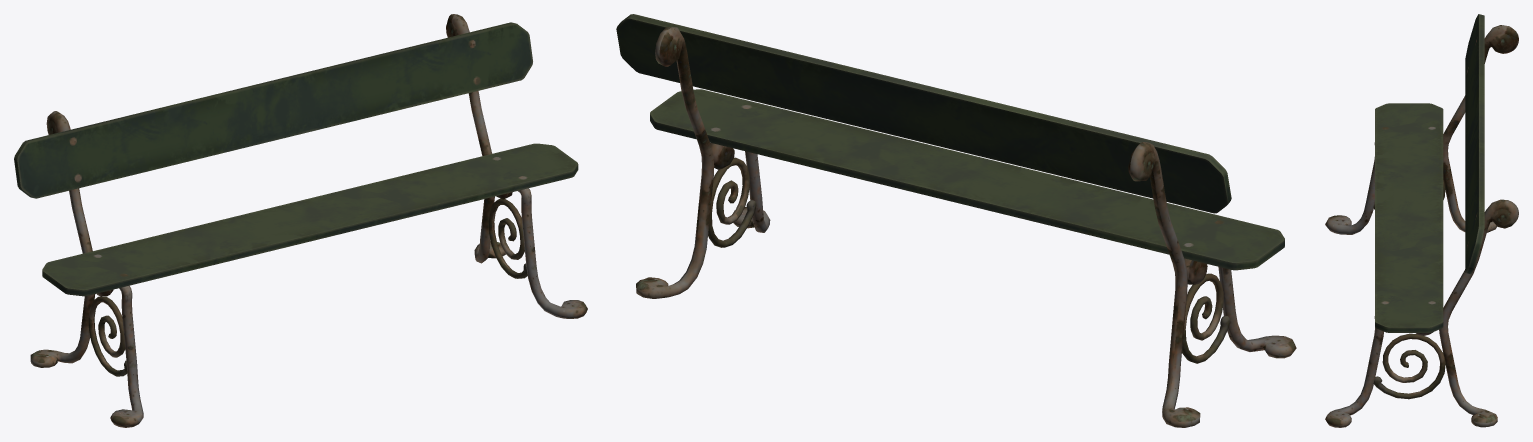
Rendered from Garden_Bench.FBX.
The picture shows the model from 3 angles, left to right: view 1: azimuth 30°, elevation 25°; view 2: azimuth 150°, elevation 25°; view 3: azimuth 270°, elevation 25°; orthographic projection. The views are drawn at different scales.
Parts seen in each view (by area): view 1: Garden_Bench; view 2: Garden_Bench; view 3: Garden_Bench.
Part boxes in pixels (bbox=[...]): Garden_Bench: bbox=[14, 14, 587, 427]; Garden_Bench: bbox=[616, 14, 1296, 427]; Garden_Bench: bbox=[1325, 14, 1518, 427].
Bounding box in the file's own units: 211 × 93.57 × 77.16.
